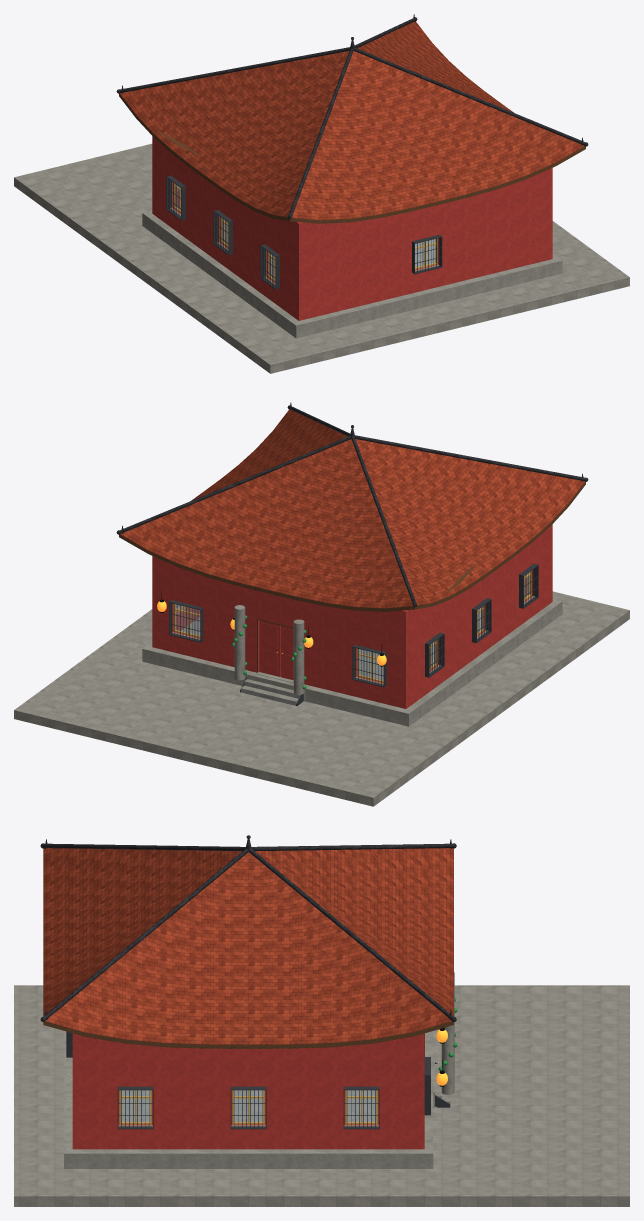
File: b_tw_folk_temple.gltf
The picture shows the model from 3 angles, top to bottom: view 1: azimuth 30°, elevation 25°; view 2: azimuth 150°, elevation 25°; view 3: azimuth 270°, elevation 25°; orthographic projection. The views are drawn at different scales.
Parts seen in each view (by area): view 1: S_tw_folk_temple; view 2: S_tw_folk_temple, D_tw_folk_temple_F1_S2_Door0, D_tw_folk_temple_F1_S2_Door1; view 3: S_tw_folk_temple.
Boxes of the visible parts, bbox=[...] form: S_tw_folk_temple: bbox=[14, 14, 629, 373]; S_tw_folk_temple: bbox=[14, 402, 629, 806]; D_tw_folk_temple_F1_S2_Door0: bbox=[259, 620, 280, 676]; D_tw_folk_temple_F1_S2_Door1: bbox=[280, 625, 293, 680]; S_tw_folk_temple: bbox=[14, 835, 629, 1206].
Bounding box in the file's own units: 17 × 10.01 × 21.
17 materials, 9 textured.
